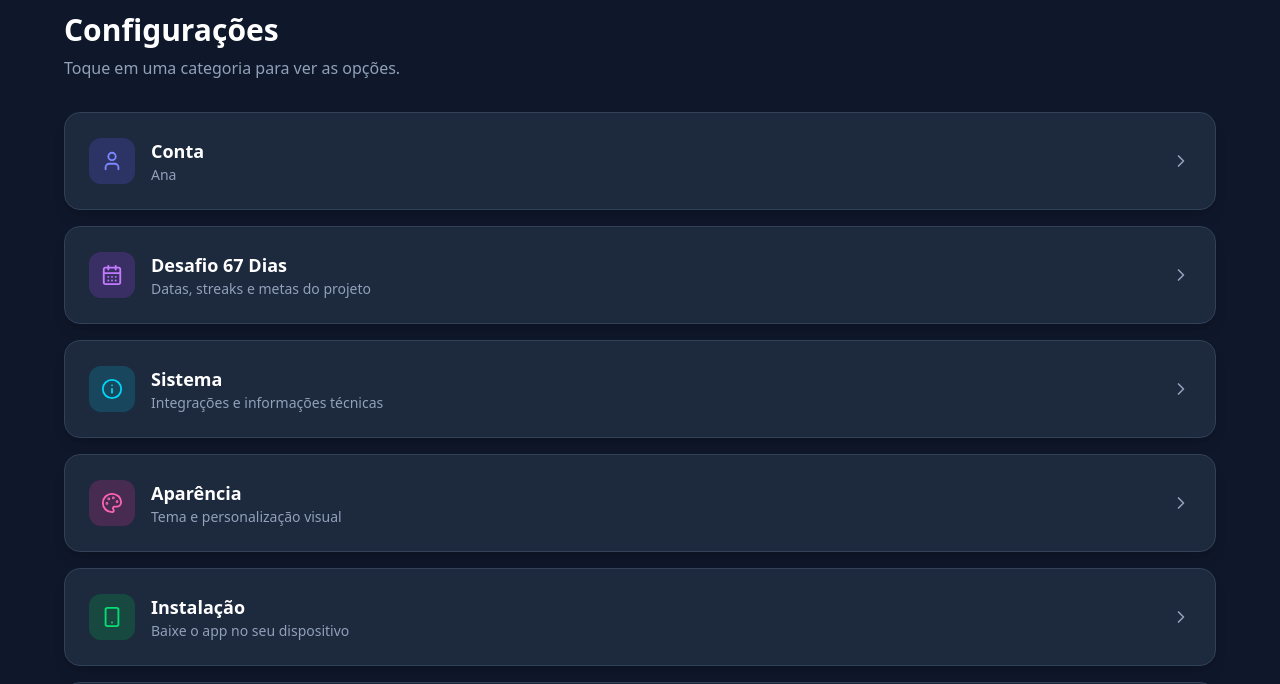
it: SettingsView - Desafio 67 Dias › shows Day 67 as end date and the journey progress
This screenshot has width=1280, height=684.
Click the button "Desafio 67 Dias Datas, streaks e metas do projeto": [112, 275] box x1=65 y1=227 x2=1215 y2=323
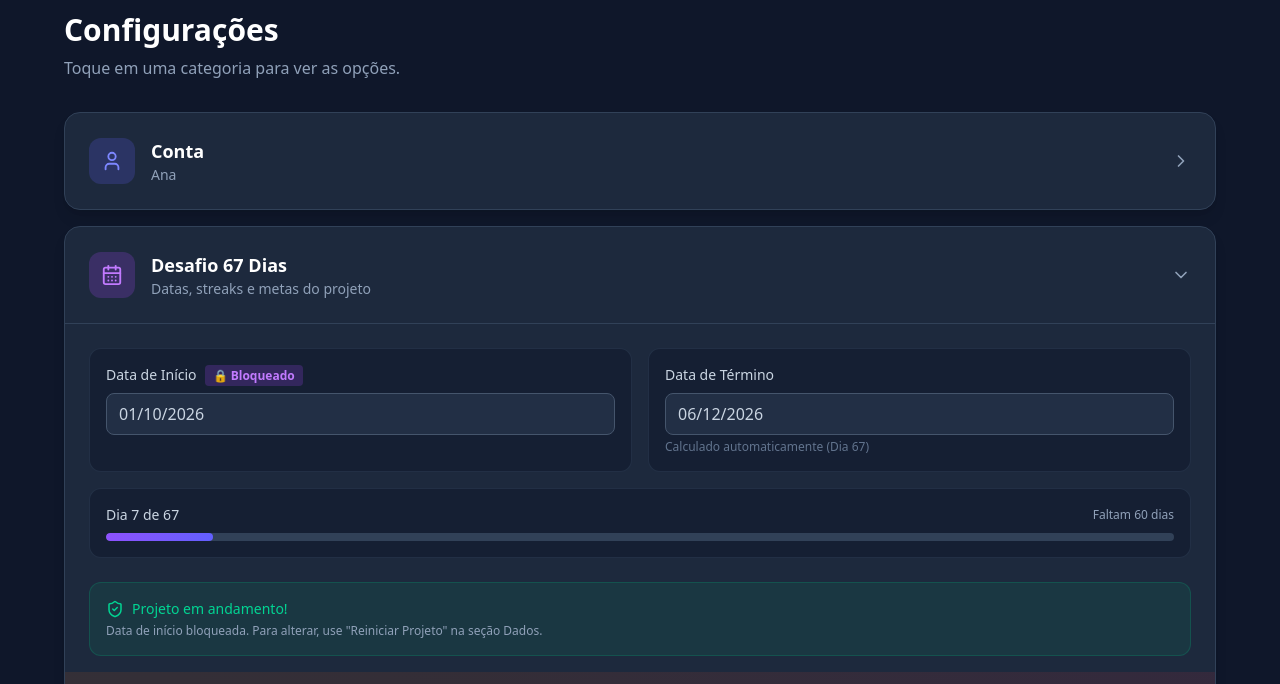
Check: the text "Dia 7 de 67" is shown, box x1=106 y1=505 x2=179 y2=525
Check: the text "Faltam 60 dias" is shown, box x1=1093 y1=507 x2=1174 y2=523
